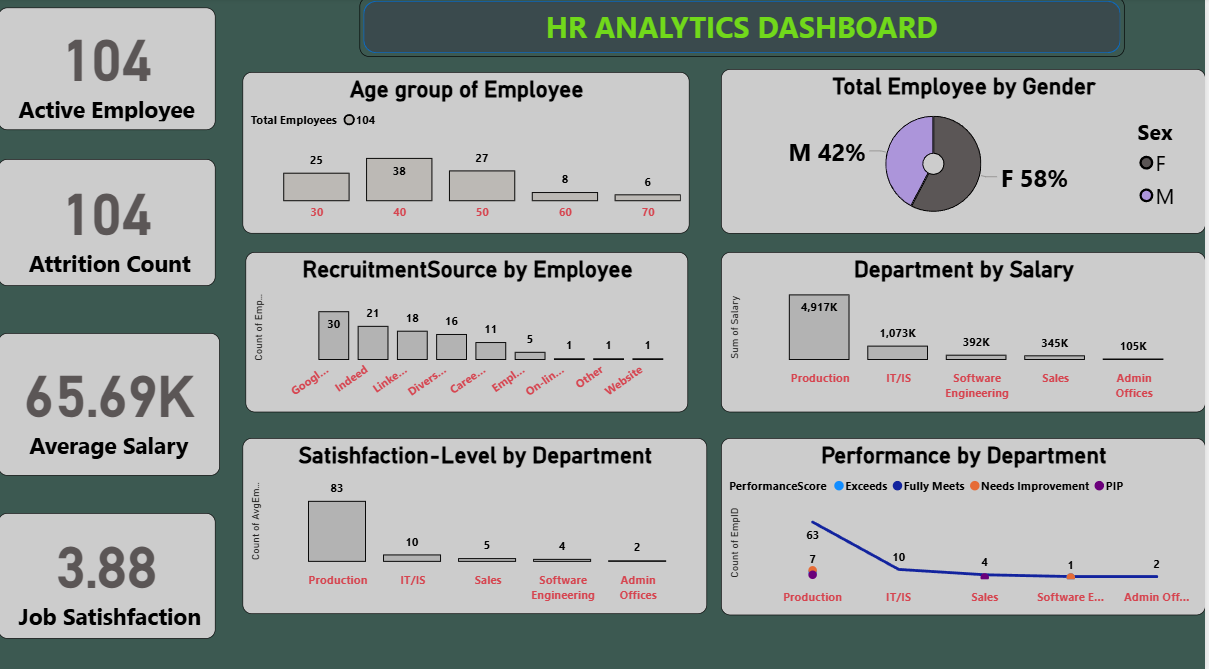

This screenshot's page, from the dashboard's own definition file:
{"tool":"powerbi","page":{"name":"Overview","canvas":[1280,720],"ordinal":0},"visuals":[{"type":"donutChart","title":"Total Employee by Gender","fields":{"Category":["HRDataset.Sex"],"Y":["Sum(HRDataset.Total Employees)"]},"box":[766.4,76.5,514,174.4],"z":0},{"type":"columnChart","title":"Age group of Employee","fields":{"Y":["CountNonNull(HRDataset.EmpID)"],"Category":["HRDataset.Age (bins)"],"Series":["HRDataset.Total Employees"]},"box":[258.5,79.5,474.2,171.3],"z":1000},{"type":"clusteredColumnChart","title":"RecruitmentSource by Employee","fields":{"Category":["HRDataset.RecruitmentSource"],"Y":["CountNonNull(HRDataset.EmpID)"]},"box":[263.1,270.8,469.6,169.8],"z":2000},{"type":"clusteredColumnChart","title":"Department by Salary","fields":{"Y":["Sum(HRDataset.Salary)"],"Category":["HRDataset.Department"]},"box":[766.4,270.8,514,169.8],"z":3000},{"type":"card","fields":{"Values":["CountNonNull(HRDataset.Active Employees)"]},"box":[0,10.7,231,130],"z":4000},{"type":"clusteredColumnChart","title":"Satishfaction-Level by Department","fields":{"Y":["CountNonNull(HRDataset.AvgEmpSatisfaction)"],"Category":["HRDataset.Department"]},"box":[258.5,468.1,492.6,186.6],"z":5000},{"type":"card","fields":{"Values":["Avg(HRDataset.AvgEmpSatisfaction)"]},"box":[0,547.7,231,133.1],"z":6000},{"type":"shape","box":[383.3,0,811.2,63.6],"z":7000},{"type":"card","fields":{"Values":["Avg(HRDataset.Salary)"]},"box":[0,356.4,235.6,151.4],"z":8000},{"type":"card","fields":{"Values":["Sum(HRDataset.Attrition Count)"]},"box":[0,171.3,231,134.6],"z":9000},{"type":"lineChart","title":"Performance by Department","fields":{"Category":["HRDataset.Department"],"Y":["CountNonNull(HRDataset.EmpID)"],"Series":["HRDataset.PerformanceScore"]},"box":[766.4,468.1,514,188.2],"z":10000}]}

Visuals, with their boxes in screenshot pixels (x1, y1, x2, y2), scaled from the page's 1280x720 canvas onto the 1209x669 screenshot:
"Total Employee by Gender" donutChart: BBox(724, 71, 1208, 233)
"Age group of Employee" columnChart: BBox(244, 74, 692, 233)
"RecruitmentSource by Employee" clusteredColumnChart: BBox(249, 252, 692, 409)
"Department by Salary" clusteredColumnChart: BBox(724, 252, 1208, 409)
card - CountNonNull(HRDataset.Active Employees): BBox(0, 10, 218, 131)
"Satishfaction-Level by Department" clusteredColumnChart: BBox(244, 435, 709, 608)
card - Avg(HRDataset.AvgEmpSatisfaction): BBox(0, 509, 218, 633)
shape: BBox(362, 0, 1128, 59)
card - Avg(HRDataset.Salary): BBox(0, 331, 223, 472)
card - Sum(HRDataset.Attrition Count): BBox(0, 159, 218, 284)
"Performance by Department" lineChart: BBox(724, 435, 1208, 610)
